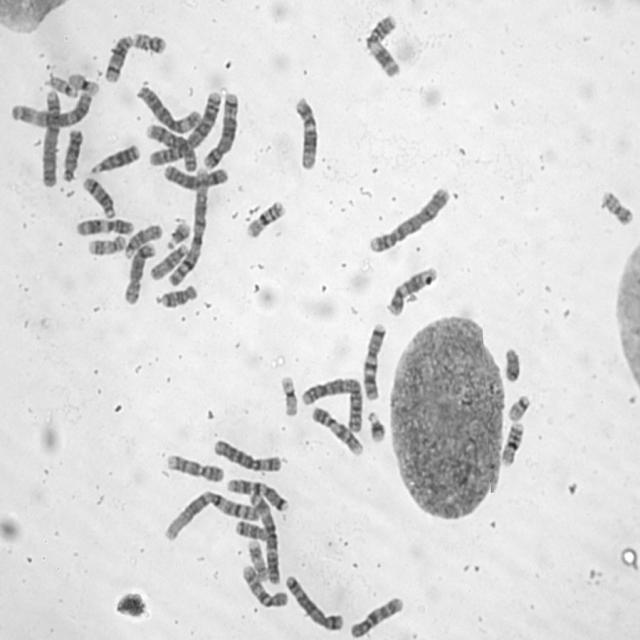A1: (164, 163, 210, 287), (161, 487, 261, 543)
A2: (146, 88, 224, 168), (299, 373, 365, 435)
A3: (9, 88, 94, 129), (247, 487, 281, 586)
B4: (366, 183, 452, 256), (37, 86, 63, 189)
B5: (282, 571, 345, 633), (201, 89, 240, 171)
C10: (347, 593, 405, 639), (240, 561, 288, 609)
C11: (364, 12, 402, 78), (73, 215, 136, 237)
C12: (384, 263, 440, 317), (292, 93, 321, 171)
C6: (134, 82, 202, 134), (212, 436, 283, 473)
C7: (225, 476, 290, 513), (360, 320, 388, 402)
C8: (143, 121, 197, 172), (121, 239, 155, 306)
C9: (310, 404, 364, 458), (165, 452, 226, 483)
D13: (88, 141, 142, 175), (59, 126, 84, 183)
D14: (102, 32, 135, 84), (80, 174, 117, 220)
D15: (148, 240, 190, 282), (122, 221, 163, 260)
E16: (243, 197, 287, 240), (498, 418, 526, 468)
E17: (86, 231, 127, 257), (246, 538, 269, 580)
E18: (156, 282, 198, 308), (232, 517, 268, 542)
F19: (278, 372, 300, 418), (67, 71, 101, 96)
F20: (598, 186, 635, 227), (132, 29, 168, 54)
G21: (164, 218, 192, 250), (365, 407, 387, 444)
G22: (48, 74, 80, 100), (505, 392, 532, 422)
X: (160, 162, 230, 190)
Y: (501, 344, 521, 385)
